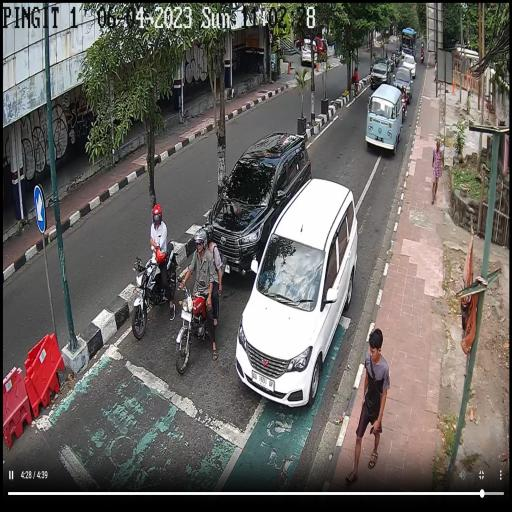mobil: (237, 177, 358, 404), (202, 132, 312, 274), (366, 83, 402, 158), (394, 67, 414, 104), (371, 55, 391, 87), (400, 27, 417, 59), (403, 54, 417, 78)
motor: (173, 271, 228, 376), (130, 239, 177, 339), (395, 56, 401, 70), (390, 56, 395, 72)
